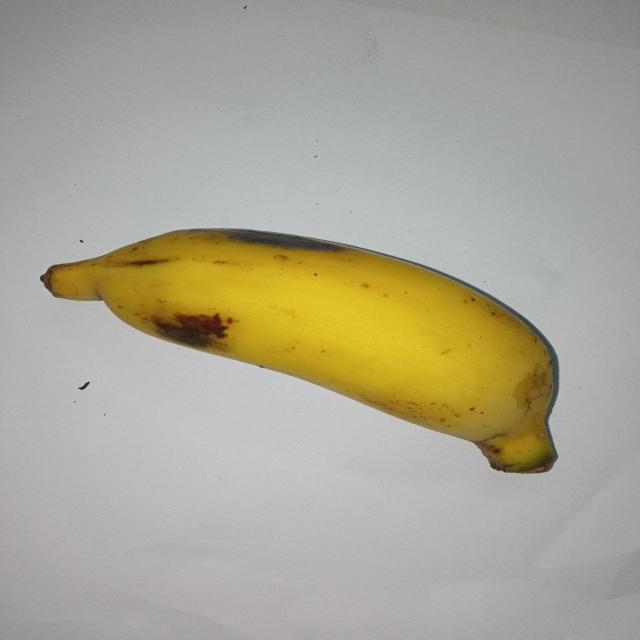fresh_banana: (46, 228, 554, 472)
